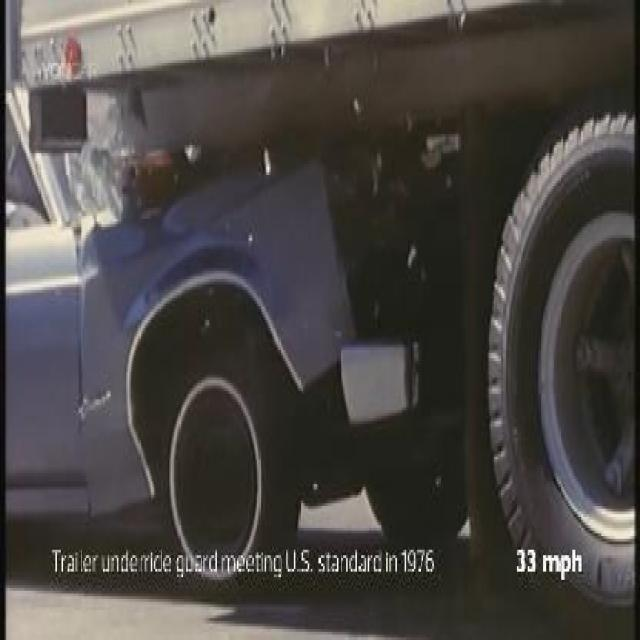accident: (7, 0, 638, 618)
